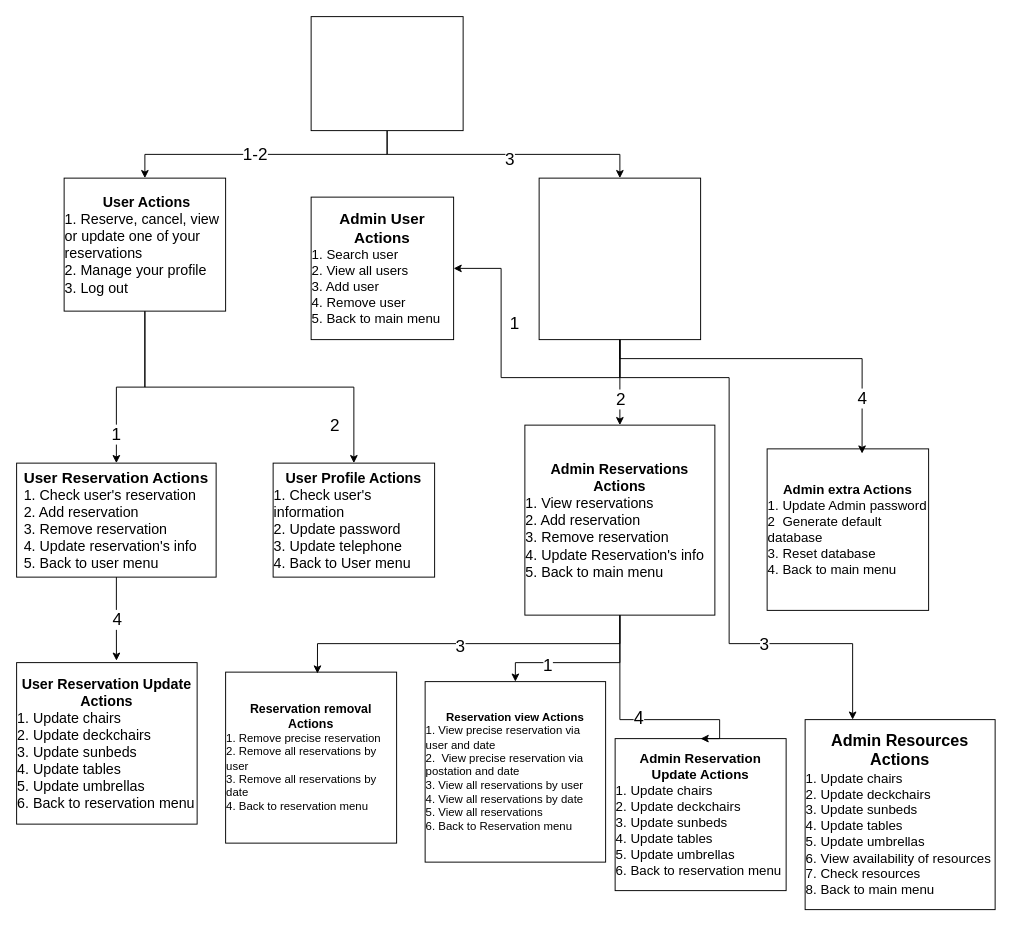
Some shapes in this 1012 by 926 pixel diagram are drawn without their labels. Each missing label, with the centre of its shape:
Admin Actions 1. Users 2. Reservations 3. Resources 4. Extra 5. Log out: point (619, 258)
PoolManager 1. Sign in 2. Sign up 3. Admin 4. Exit: point (386, 73)
